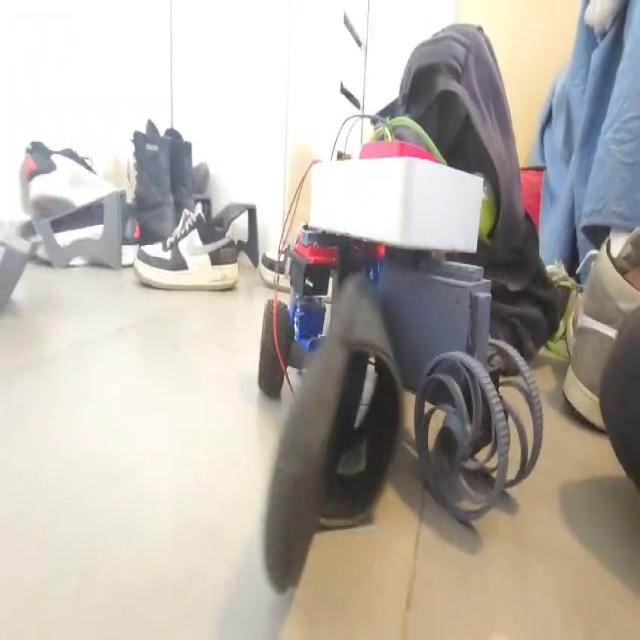Robot: (255, 132, 543, 523)
